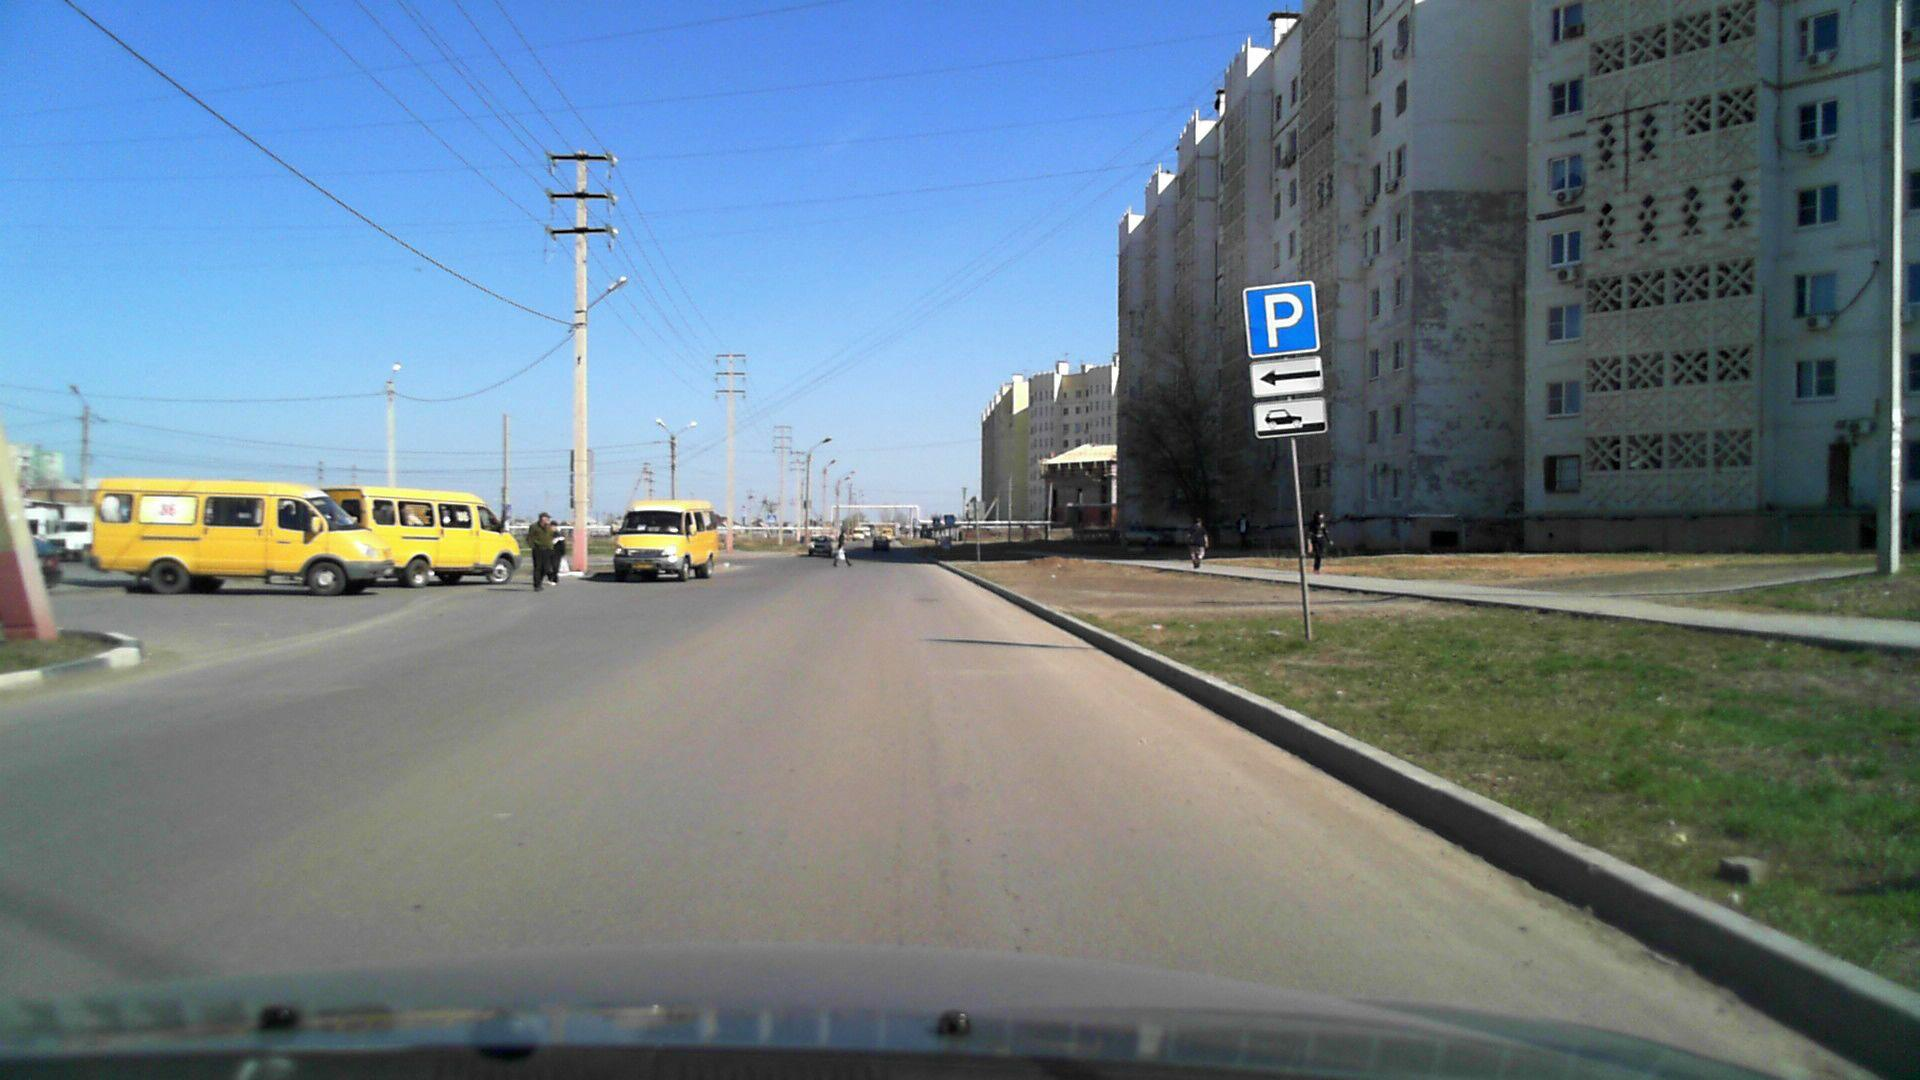6_4: (1241, 276, 1323, 355)
8_3_2: (1246, 358, 1326, 397)
8_6_5: (1250, 397, 1333, 438)
